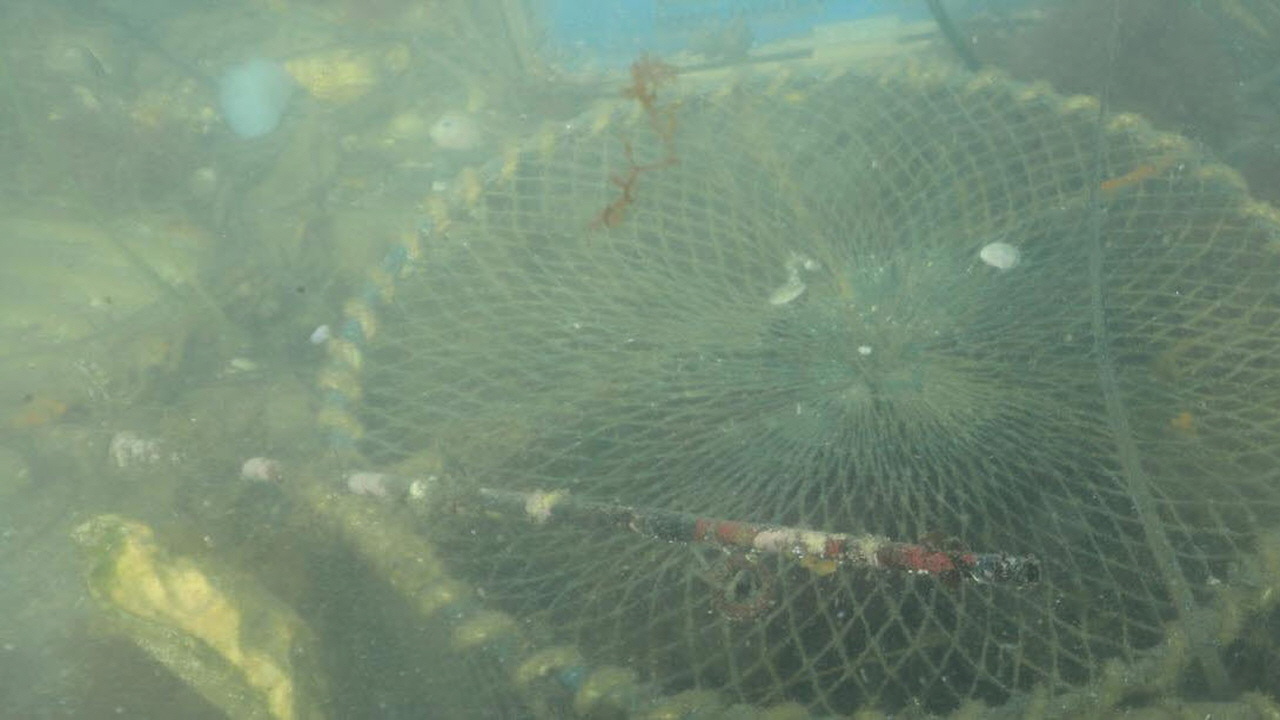circular fish trap: (315, 58, 1280, 719)
